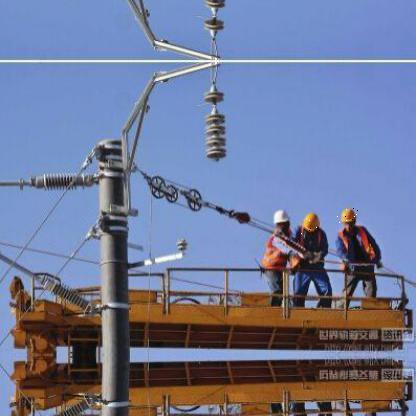safetyhelmet: (297, 212, 320, 236), (269, 206, 292, 228), (337, 208, 359, 228)
